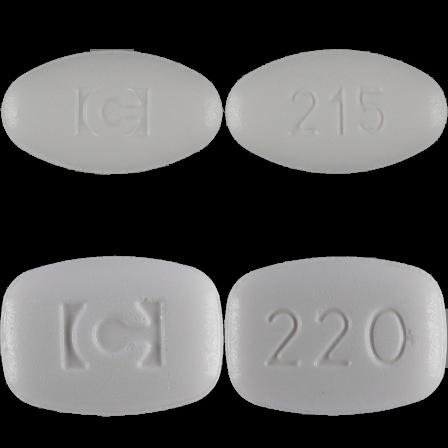63459-215: (0, 0, 224, 224)
